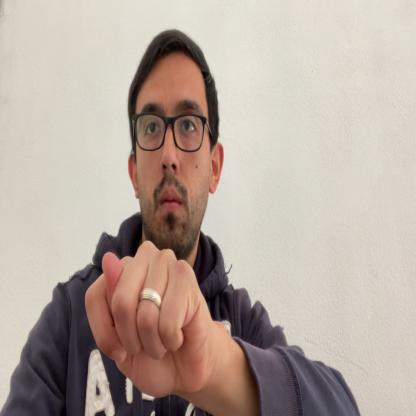T: (84, 238, 206, 401)
